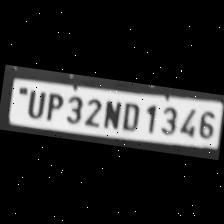1: (140, 100, 160, 133)
2: (80, 93, 104, 126)
3: (155, 102, 180, 134), (62, 91, 84, 124)
4: (176, 103, 198, 136)
6: (194, 106, 218, 139)
D: (119, 98, 143, 131)
N: (100, 96, 122, 130)
P: (42, 88, 65, 122)
U: (22, 86, 46, 118)
